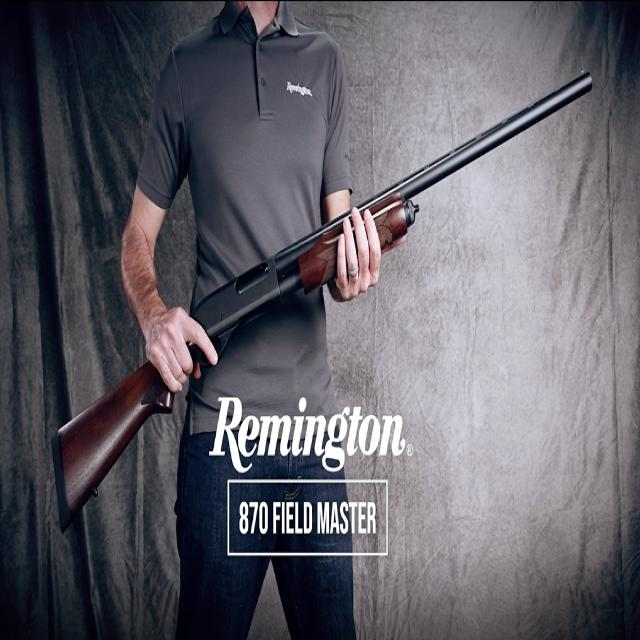ShotGun: (57, 75, 594, 516)
